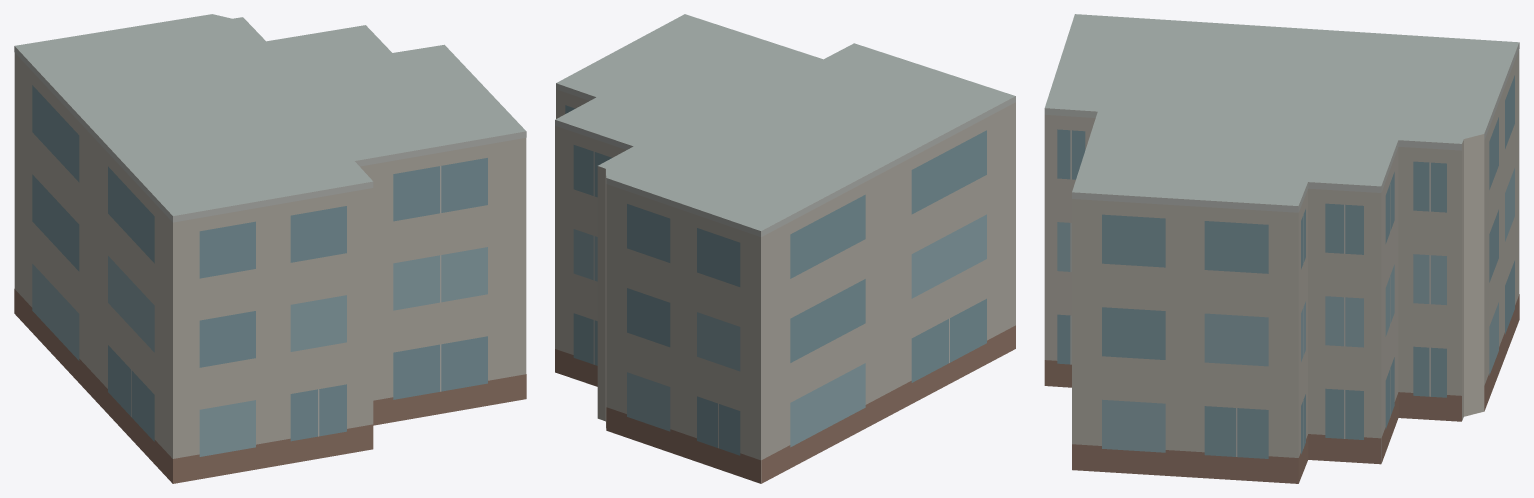
File: survey-upis-32948766.glb
The picture shows the model from 3 angles, left to right: view 1: azimuth 30°, elevation 25°; view 2: azimuth 150°, elevation 25°; view 3: azimuth 270°, elevation 25°; orthographic projection. The views are drawn at different scales.
Parts seen in each view (by area): view 1: survey-upis-32948766.tmp; view 2: survey-upis-32948766.tmp; view 3: survey-upis-32948766.tmp.
Boxes of the visible parts, x1,y1,x2,y2 form: survey-upis-32948766.tmp: (14,14,526,483); survey-upis-32948766.tmp: (555,14,1015,483); survey-upis-32948766.tmp: (1044,14,1519,483).
Bounding box in the file's own units: 15.14 × 10.2 × 15.81.
